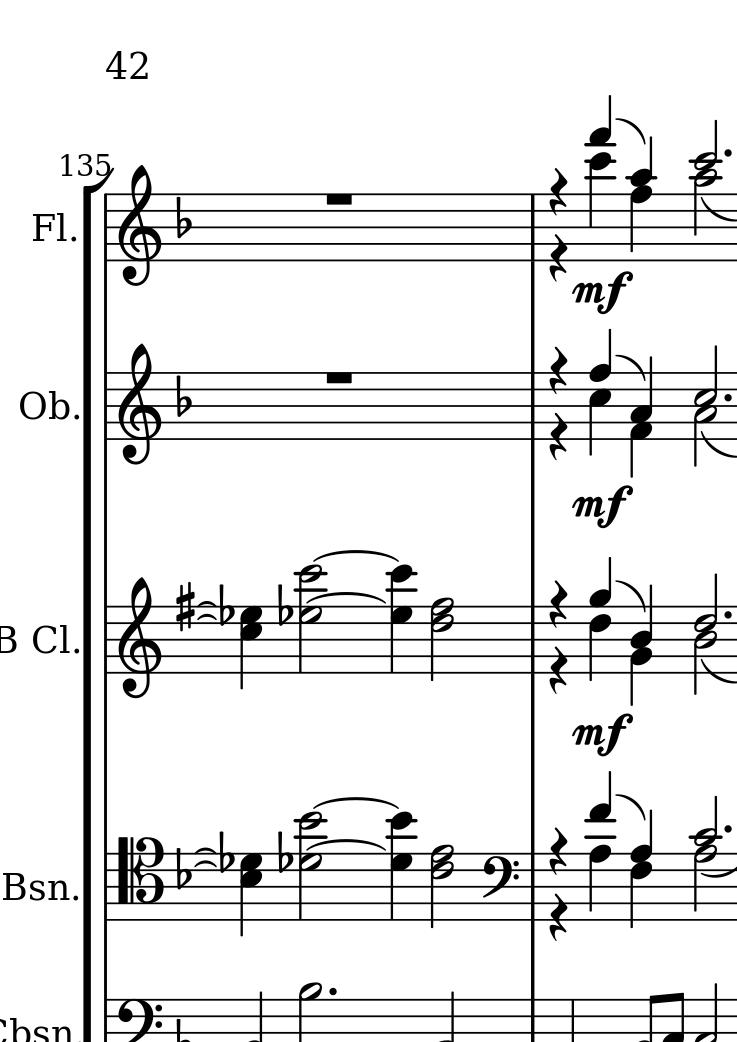2: (129, 49, 151, 84)
2_10_12: (688, 118, 723, 262)
2_3_5: (693, 344, 719, 470)
2_4_6: (693, 573, 719, 697)
2_6_8: (428, 596, 455, 682), (429, 843, 454, 929)
2_7_12: (294, 810, 328, 922), (295, 563, 327, 676)
2_8_10: (692, 795, 721, 922)
4: (106, 48, 127, 86)
4_12_15: (586, 91, 615, 263)
4_1_3: (628, 354, 653, 479)
4_2_4: (629, 582, 654, 705)
4_5_7: (238, 851, 265, 936), (238, 604, 263, 693)
4_5_8: (588, 327, 613, 457)
4_6_8: (629, 807, 653, 932)
4_6_9: (588, 556, 613, 687)
4_7_12: (385, 564, 418, 675), (385, 811, 418, 922)
4_8_10: (627, 134, 655, 263)
4_8_13: (585, 769, 615, 921)
Brace: (308, 549, 400, 565), (612, 579, 648, 615), (309, 797, 400, 810), (615, 354, 649, 385), (614, 116, 646, 148), (616, 792, 649, 822), (306, 839, 386, 851), (307, 593, 387, 604)
Bsn: (1, 868, 71, 912)
Cclef: (115, 834, 166, 924)
Cl: (26, 617, 73, 662)
Fclef: (479, 852, 523, 923)
Fl: (23, 208, 73, 252)
Flat: (173, 194, 195, 244), (174, 846, 197, 892), (173, 372, 195, 420), (216, 581, 236, 629), (275, 583, 296, 628), (275, 829, 294, 877), (216, 830, 236, 875)
Gclef: (116, 343, 163, 465), (117, 165, 162, 287), (118, 578, 162, 699)
Ob: (18, 383, 73, 429)
Rests1: (322, 367, 356, 388), (323, 190, 358, 210)
Rests4: (543, 162, 570, 220), (544, 575, 570, 630), (547, 640, 572, 697), (546, 232, 571, 287), (547, 411, 572, 461), (548, 892, 570, 943), (548, 345, 569, 397), (549, 825, 568, 876)
Sharp: (173, 582, 198, 633)
Single_barline: (96, 852, 117, 922), (96, 195, 118, 261), (100, 606, 119, 674), (524, 605, 542, 675), (99, 371, 117, 441), (524, 195, 543, 260), (526, 852, 543, 922), (526, 372, 543, 441)
dot: (721, 388, 736, 408), (722, 606, 737, 625), (720, 147, 735, 162), (326, 985, 339, 998), (722, 823, 733, 837)
mf: (571, 268, 632, 319), (573, 711, 637, 757), (570, 482, 629, 530)
